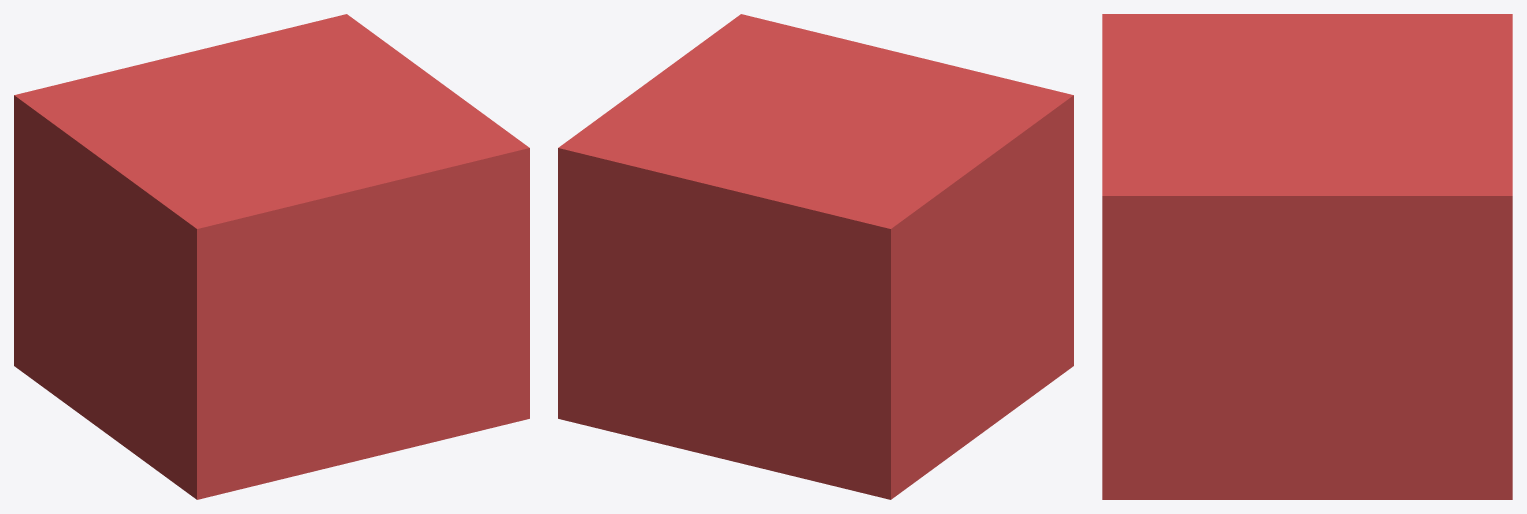
Rendered from shrub_one.DAE.
3 views of the same model, side by side, from view 1: azimuth 30°, elevation 25°; view 2: azimuth 150°, elevation 25°; view 3: azimuth 270°, elevation 25° (orthographic). The views are drawn at different scales.
Visible parts, largest first — view 1: bounds; view 2: bounds; view 3: bounds.
Part boxes in pixels (left/top/right/bottom): bounds: left=14, top=14, right=529, bottom=499; bounds: left=558, top=14, right=1073, bottom=499; bounds: left=1102, top=14, right=1512, bottom=499.
Bounding box in the file's own units: 6.67 × 6.35 × 5.26.
